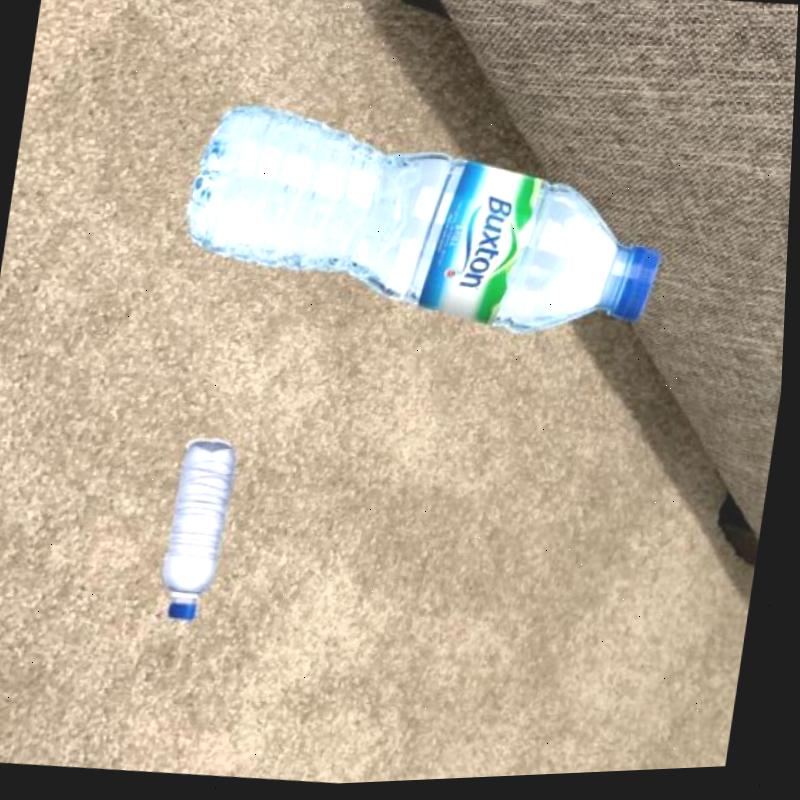botella: (175, 89, 684, 362), (156, 435, 245, 626)
